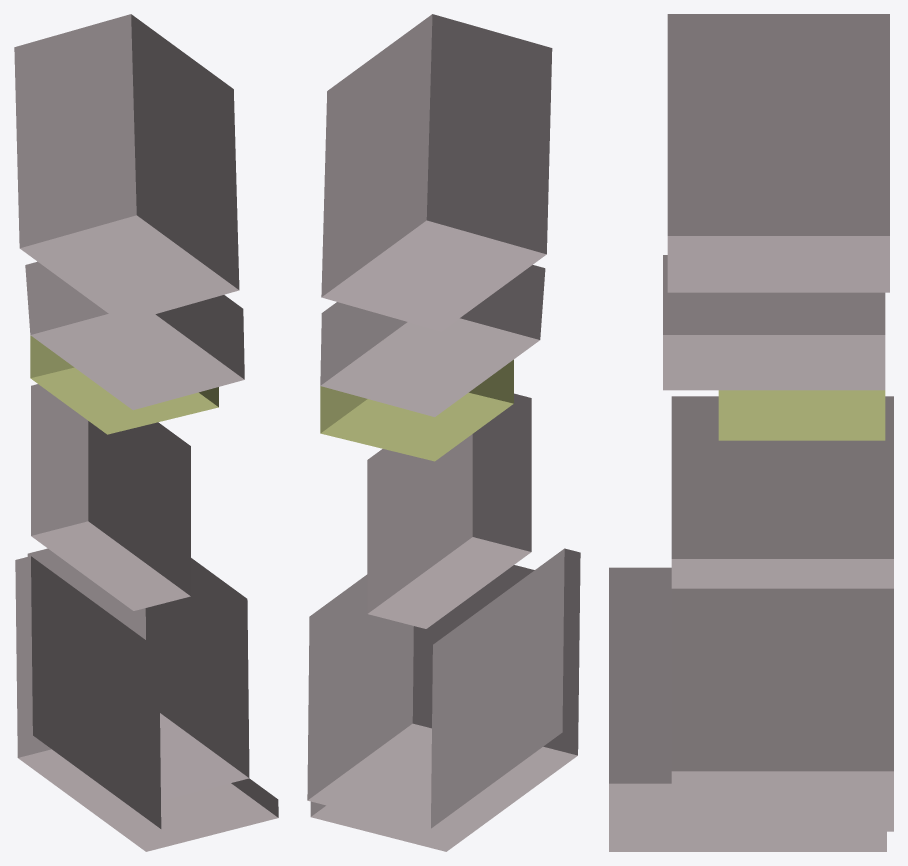
3 views of the same model, side by side, from view 1: azimuth 30°, elevation 25°; view 2: azimuth 150°, elevation 25°; view 3: azimuth 270°, elevation 25° (orthographic). The views are drawn at different scales.
Parts seen in each view (by area): view 1: 0_2_1_3_3_0_3; view 2: 0_2_1_3_3_0_3; view 3: 0_2_1_3_3_0_3.
Boxes of the visible parts, x1,y1,x2,y2 form: 0_2_1_3_3_0_3: [14, 14, 278, 851]; 0_2_1_3_3_0_3: [307, 14, 580, 851]; 0_2_1_3_3_0_3: [609, 14, 893, 851].
Size of the model in its own units: 9.1 by 46.09 by 15.38.
